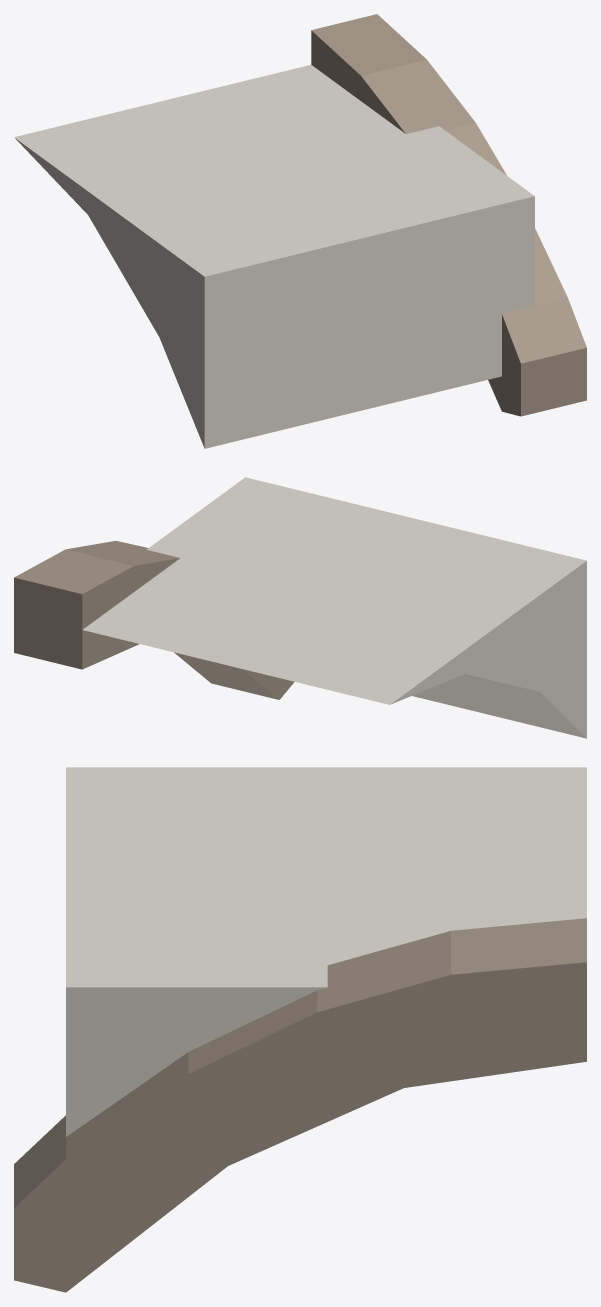
File: Stucco_Arch_Half_Outer.glb
The picture shows the model from 3 angles, top to bottom: view 1: azimuth 30°, elevation 25°; view 2: azimuth 150°, elevation 25°; view 3: azimuth 270°, elevation 25°; orthographic projection. The views are drawn at different scales.
Parts seen in each view (by area): view 1: object1, object2; view 2: object1, object2; view 3: object1, object2.
Boxes of the visible parts, x1,y1,x2,y2 form: object1: (14,65,534,448); object2: (311,14,586,416); object1: (83,477,586,738); object2: (14,541,294,699); object1: (66,767,586,1136); object2: (14,918,586,1292).
Size of the model in its own units: 1.1 by 0.7 by 1.1.
